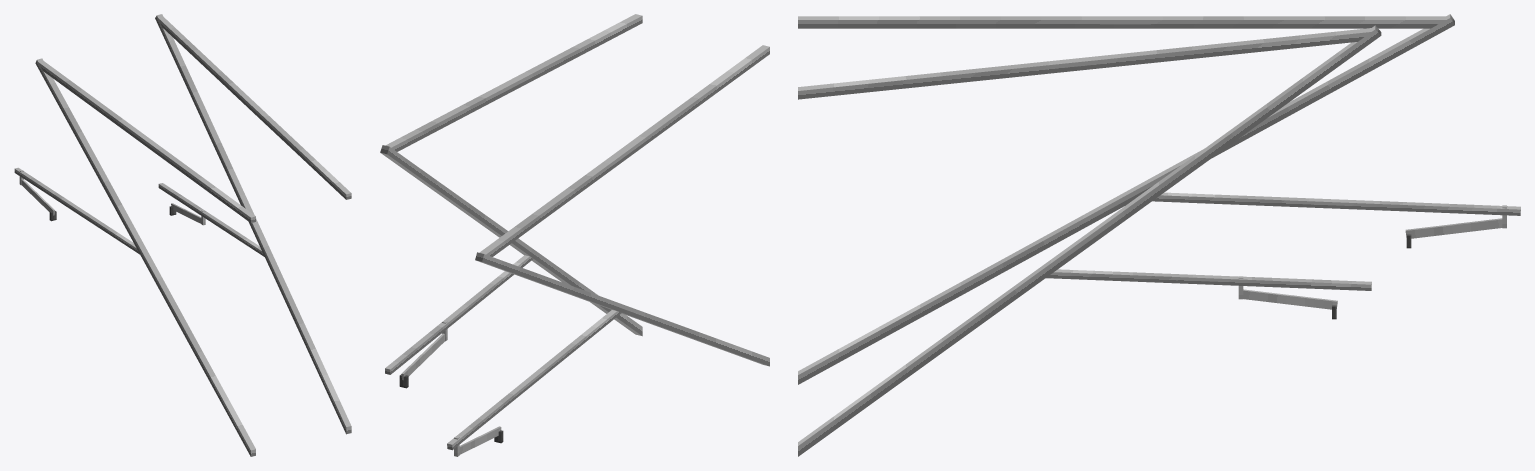
The model's file is cantilever_center_5px.obj.
3 views of the same model, side by side, from view 1: azimuth 30°, elevation 25°; view 2: azimuth 150°, elevation 25°; view 3: azimuth 270°, elevation 25° (orthographic). The views are drawn at different scales.
Visible parts, largest first — view 1: cb109ab3-a3d9-42c1-b166-9ca62122df1c, 77f2b1a1-b284-41e8-b811-7f94cdefdd06, e9dade13-ab3b-4971-b407-8ec58a14ab74, c8fd577c-e537-4a86-9262-9744fcab24ad, 5844d9ed-4b37-4914-99f0-bbdcce0932d1, f295f1ac-8acc-4c53-a2d8-5d6f22a4769f; view 2: e9dade13-ab3b-4971-b407-8ec58a14ab74, c8fd577c-e537-4a86-9262-9744fcab24ad, cb109ab3-a3d9-42c1-b166-9ca62122df1c, 77f2b1a1-b284-41e8-b811-7f94cdefdd06, 5844d9ed-4b37-4914-99f0-bbdcce0932d1, f295f1ac-8acc-4c53-a2d8-5d6f22a4769f, e37cba6c-556a-437c-bec6-a27afe8c97b7, 35aff485-1f41-4e4b-91f9-7e5288ddc062; view 3: 77f2b1a1-b284-41e8-b811-7f94cdefdd06, e9dade13-ab3b-4971-b407-8ec58a14ab74, cb109ab3-a3d9-42c1-b166-9ca62122df1c, c8fd577c-e537-4a86-9262-9744fcab24ad, 5844d9ed-4b37-4914-99f0-bbdcce0932d1, f295f1ac-8acc-4c53-a2d8-5d6f22a4769f, 35aff485-1f41-4e4b-91f9-7e5288ddc062, e37cba6c-556a-437c-bec6-a27afe8c97b7.
Boxes of the visible parts, box(x1,y1,x2,y2) form: cb109ab3-a3d9-42c1-b166-9ca62122df1c: box(35, 58, 255, 456); 77f2b1a1-b284-41e8-b811-7f94cdefdd06: box(155, 14, 351, 434); e9dade13-ab3b-4971-b407-8ec58a14ab74: box(38, 61, 255, 222); c8fd577c-e537-4a86-9262-9744fcab24ad: box(158, 16, 351, 199); 5844d9ed-4b37-4914-99f0-bbdcce0932d1: box(14, 167, 139, 254); f295f1ac-8acc-4c53-a2d8-5d6f22a4769f: box(158, 183, 264, 256); e9dade13-ab3b-4971-b407-8ec58a14ab74: box(479, 45, 769, 256); c8fd577c-e537-4a86-9262-9744fcab24ad: box(385, 14, 642, 151); cb109ab3-a3d9-42c1-b166-9ca62122df1c: box(475, 252, 769, 366); 77f2b1a1-b284-41e8-b811-7f94cdefdd06: box(380, 145, 642, 336); 5844d9ed-4b37-4914-99f0-bbdcce0932d1: box(447, 310, 621, 450); f295f1ac-8acc-4c53-a2d8-5d6f22a4769f: box(385, 255, 532, 374); e37cba6c-556a-437c-bec6-a27afe8c97b7: box(401, 333, 444, 380); 35aff485-1f41-4e4b-91f9-7e5288ddc062: box(459, 426, 501, 454); 77f2b1a1-b284-41e8-b811-7f94cdefdd06: box(798, 25, 1381, 456); e9dade13-ab3b-4971-b407-8ec58a14ab74: box(798, 16, 1446, 28); cb109ab3-a3d9-42c1-b166-9ca62122df1c: box(798, 14, 1454, 384); c8fd577c-e537-4a86-9262-9744fcab24ad: box(798, 28, 1371, 99); 5844d9ed-4b37-4914-99f0-bbdcce0932d1: box(1152, 192, 1520, 215); f295f1ac-8acc-4c53-a2d8-5d6f22a4769f: box(1046, 269, 1371, 290); 35aff485-1f41-4e4b-91f9-7e5288ddc062: box(1405, 218, 1502, 238); e37cba6c-556a-437c-bec6-a27afe8c97b7: box(1243, 289, 1337, 309).
Bounding box in the file's own units: 1.19 × 3.16 × 4.84.
